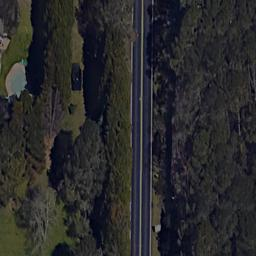Double Solid Yellow Line: (139, 1, 143, 254)
